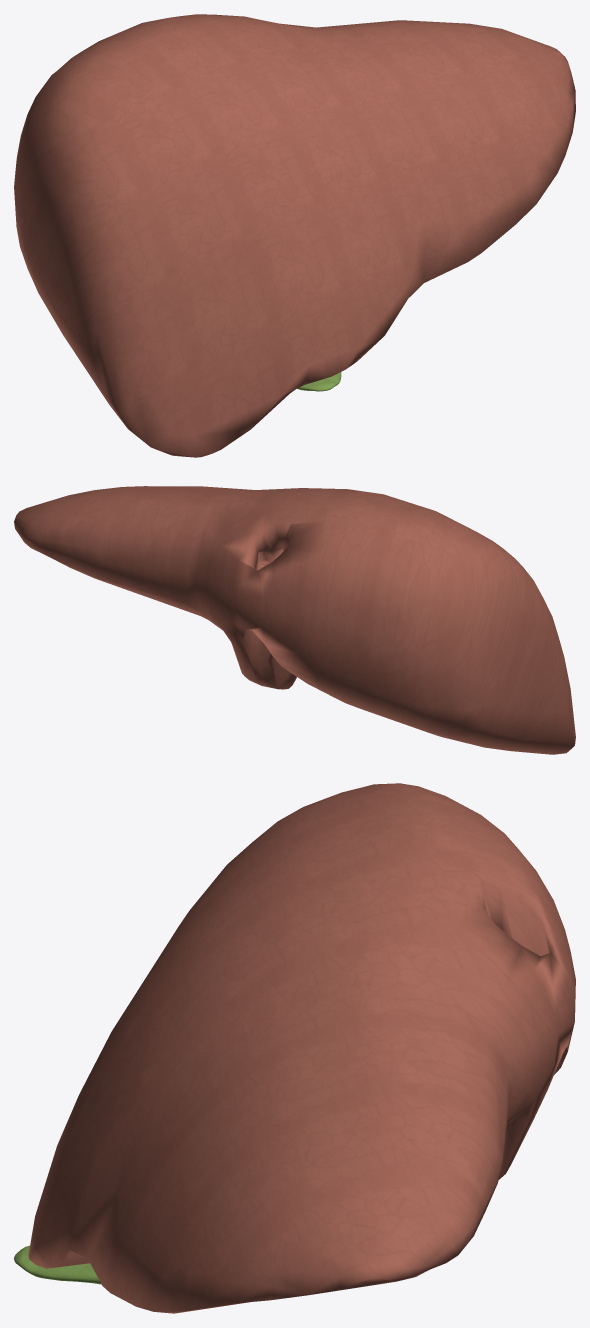
Rendered from overview.glb.
3 views of the same model, one above another, from view 1: azimuth 30°, elevation 25°; view 2: azimuth 150°, elevation 25°; view 3: azimuth 270°, elevation 25° (orthographic). The views are drawn at different scales.
Parts seen in each view (by area): view 1: liver; view 2: liver; view 3: liver.
Part boxes in pixels (bbox=[...]): liver: bbox=[14, 14, 575, 457]; liver: bbox=[14, 486, 575, 754]; liver: bbox=[14, 783, 575, 1313].
Bounding box in the file's own units: 0.2064 × 0.1192 × 0.1238.
Materials: 2 (2 with a texture image).
